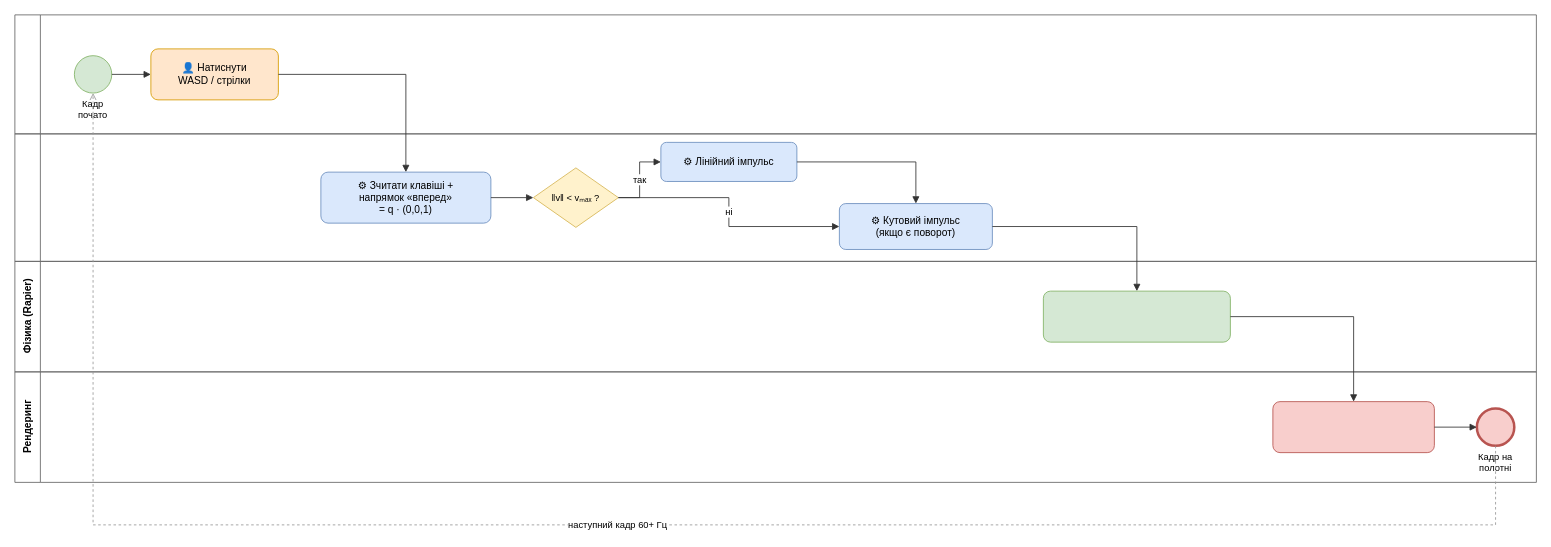
Image size: 1551x547. Some labels were removed from this diagram. Here are the shapes that lost their labels. From the top down, the box of each, then its label:
(14, 14, 1536, 134): Користувач
(14, 133, 1536, 261): Система керування
(1043, 290, 1230, 342): ⚙ Rapier: інтегрування Δt + розв'язання колізій
(1272, 401, 1434, 453): ⚙ Three.js: меш + lerp-камера → кадр
